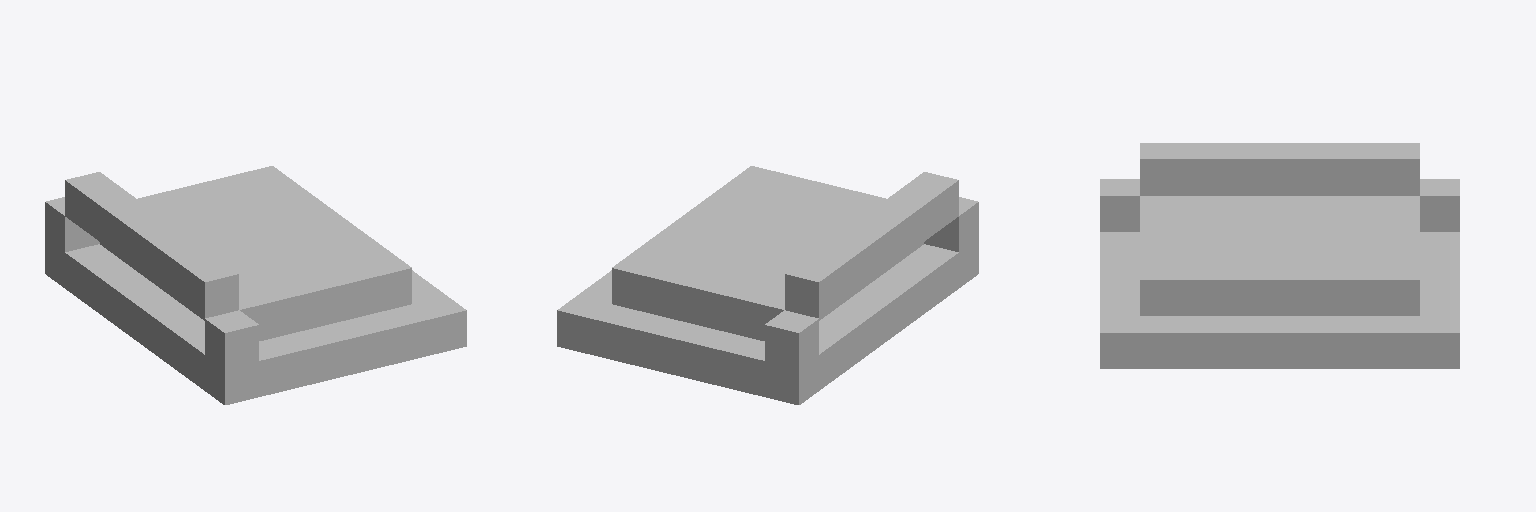
The model's file is waffle machine top.obj.
3 views of the same model, side by side, from view 1: azimuth 30°, elevation 25°; view 2: azimuth 150°, elevation 25°; view 3: azimuth 270°, elevation 25° (orthographic).
Parts seen in each view (by area): view 1: waffle machine top; view 2: waffle machine top; view 3: waffle machine top.
Boxes of the visible parts, <box> form: waffle machine top: <box>45,166,466,404</box>; waffle machine top: <box>557,166,978,404</box>; waffle machine top: <box>1100,143,1459,368</box>.
Size of the model in its own units: 7 by 3 by 9.